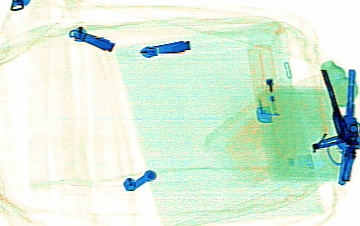lighter: (247, 42, 282, 123)
